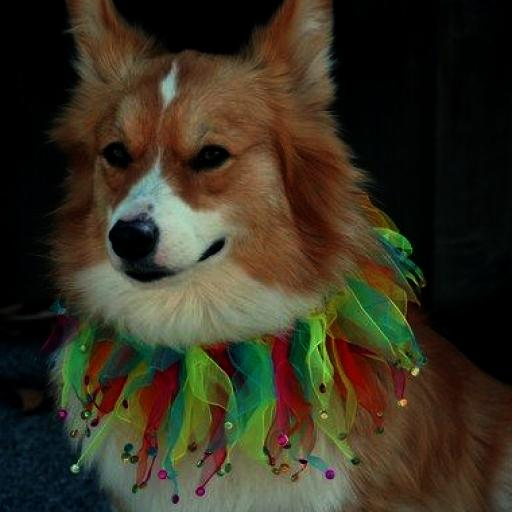dog_face: (42, 0, 377, 311)
